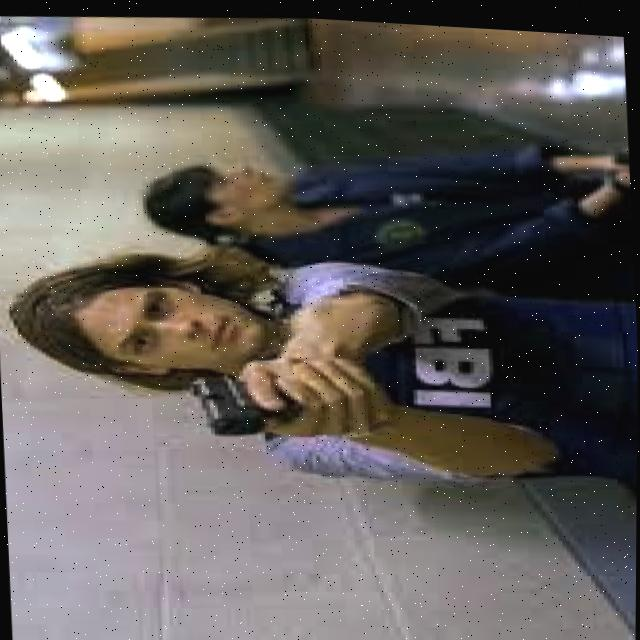pistol: (182, 365, 304, 441)
